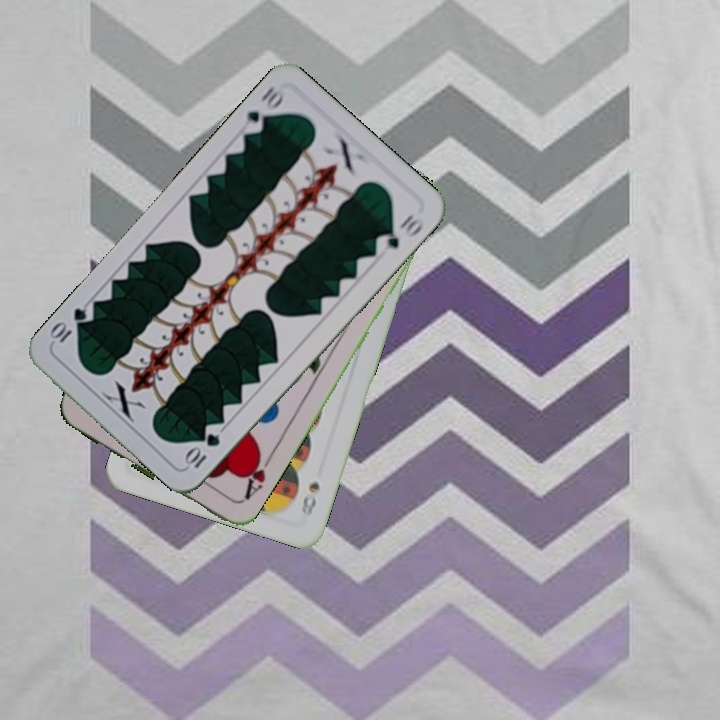G10: (241, 81, 288, 137), (181, 429, 223, 471)
HA: (237, 446, 275, 504)
S8: (297, 477, 323, 520)
